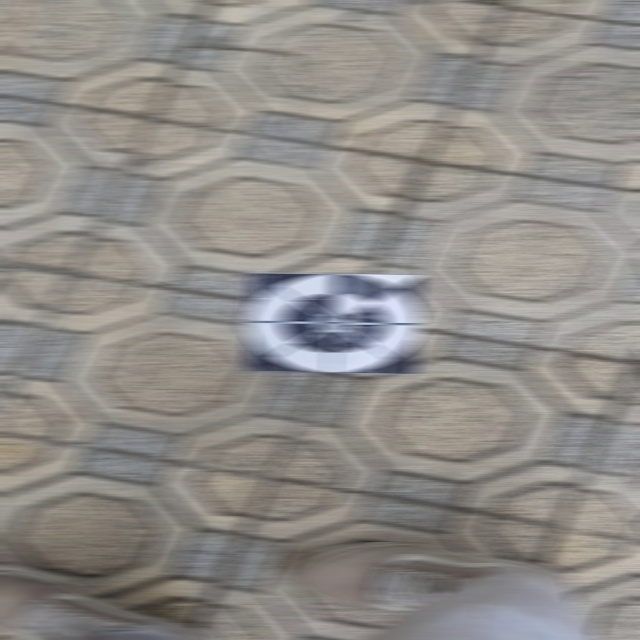landing-zone: (237, 267, 440, 381)
